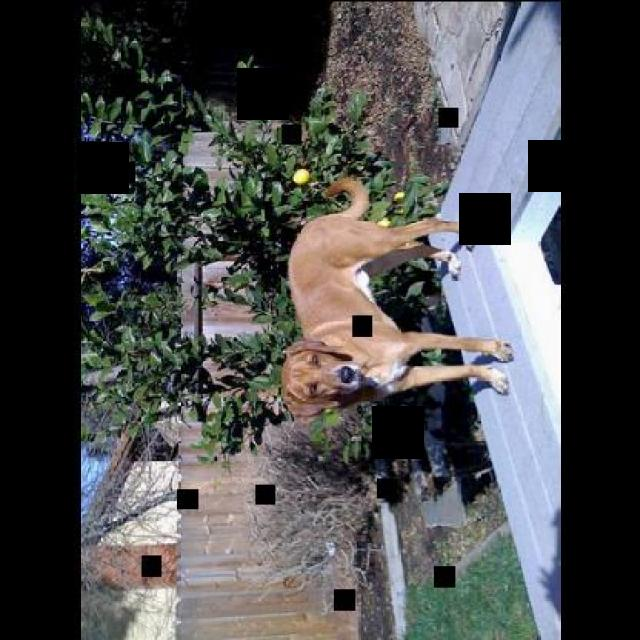unauthorized: (278, 174, 514, 431)
